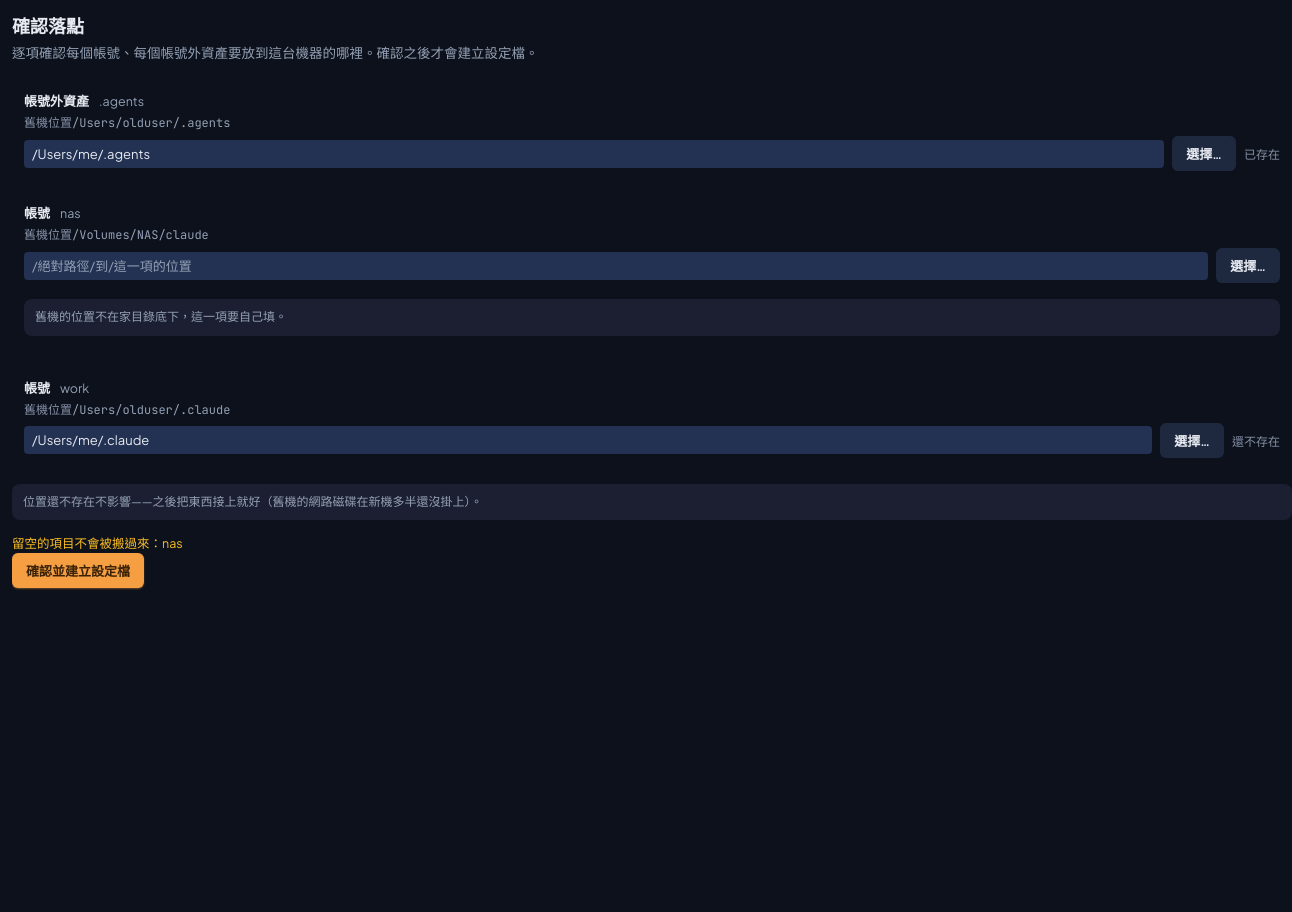
Scenario: TargetsCard › 衝突時選「停下來」→ 不跑收尾，畫面留在這一頁
Check: the field showing "/Users/me/.claude" below "/Users/olduser/.claude" is shown, box [24,426,1152,454]
Click the button "確認並建立設定檔" at coordinates (78, 571), box [12,553,144,588]
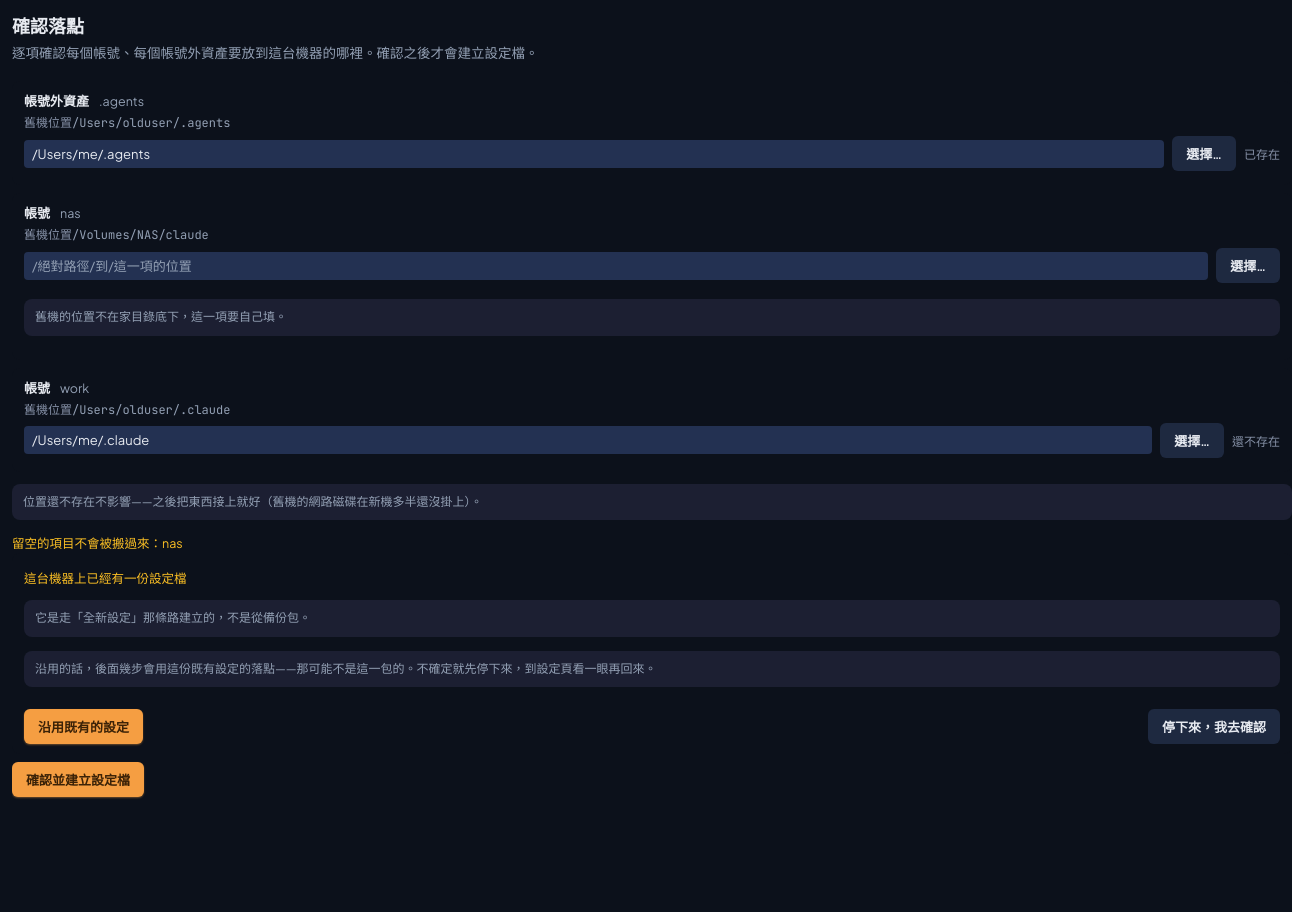
Check: the button "停下來，我去確認" is shown
Click the button "停下來，我去確認" at coordinates (1214, 727), box [1148,709,1280,744]
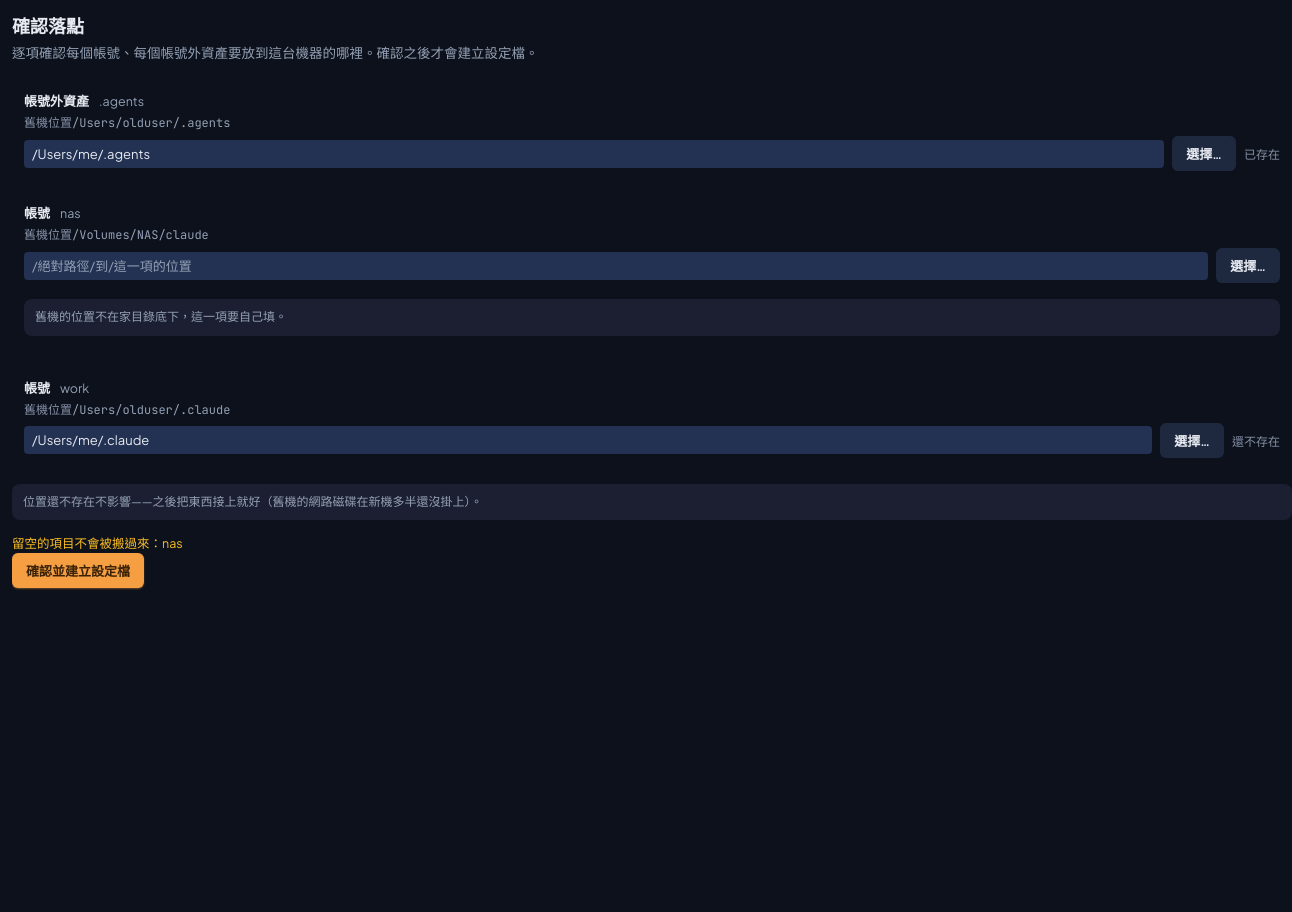
Check: the button "確認並建立設定檔" is shown, box [12,553,144,588]
Check: the button "停下來，我去確認" is gone
